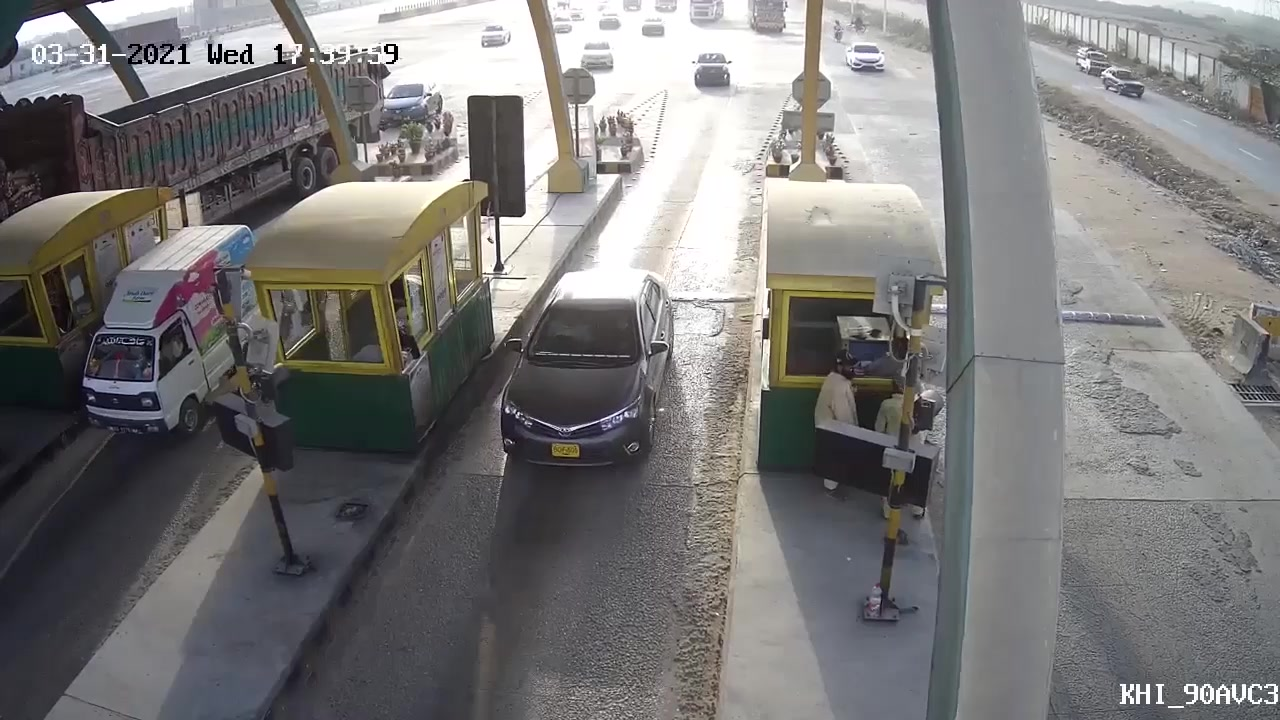F1: (486, 268, 689, 486)
